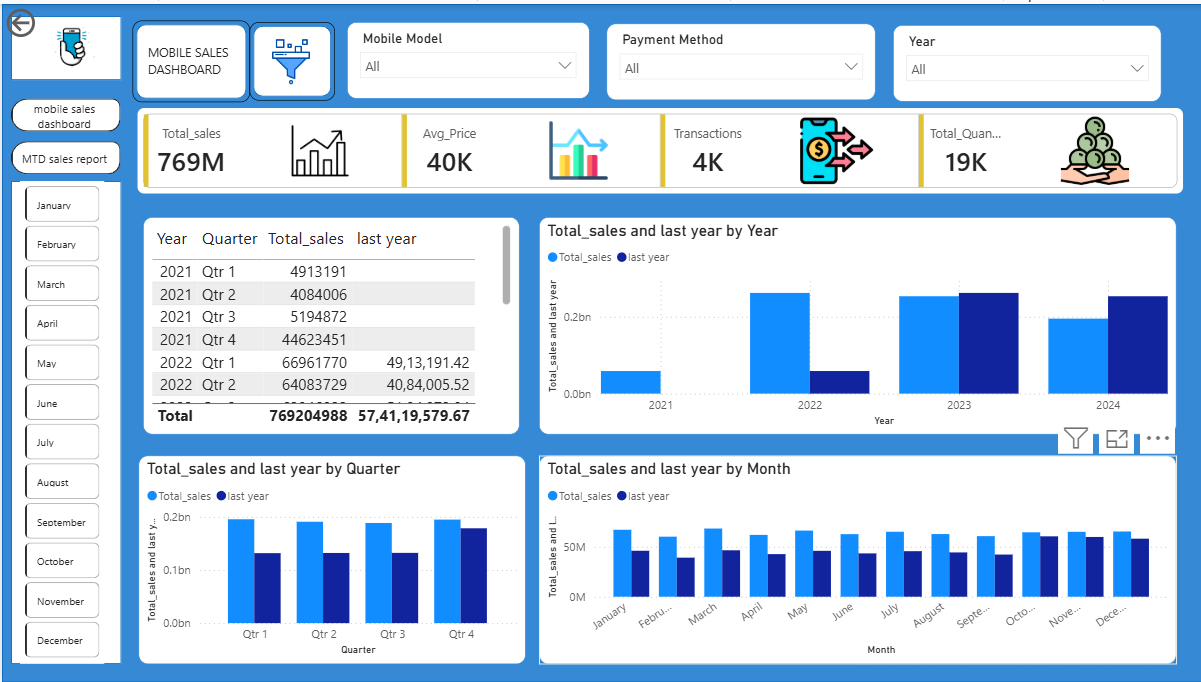

This screenshot's page, from the dashboard's own definition file:
{"tool":"powerbi","page":{"name":"Duplicate of mobile sales dashboard","canvas":[1280,720],"ordinal":1},"visuals":[{"type":"image","box":[9.5,0,108.2,77.9],"z":0},{"type":"image","box":[19.1,12.7,87.5,55.7],"z":1000},{"type":"shape","box":[0,0,1280.4,720.5],"z":2000},{"type":"shape","box":[9.4,13.2,117.2,68],"z":3000},{"type":"image","box":[22.3,19.1,103.4,55.7],"z":4000},{"type":"shape","box":[9.4,187.1,117.2,512.1],"z":6000},{"type":"cardVisual","fields":{"Data":["sales.Total_sales","sales.AVG_PRICE","sales.Transactions","sales.Total_Qunatity"]},"box":[138.4,105,1123,101.8],"z":7000},{"type":"slicer","fields":{"Values":["sales.Mobile Model"]},"box":[366.6,18.9,257,81.3],"z":8000},{"type":"slicer","fields":{"Values":["sales.Payment Method"]},"box":[640.6,20.8,285.4,81.3],"z":9000},{"type":"shape","box":[262.7,18.9,90.7,83.2],"z":10000},{"type":"shape","box":[138,17,124.7,86.9],"z":11000},{"type":"image","box":[275.9,35.9,62.4,49.1],"z":12000},{"type":"textbox","box":[149,36,99,49],"z":13000},{"type":"advancedSlicerVisual","fields":{"Values":["custom calendar.Date.Variation.Date Hierarchy.Month"]},"box":[19.1,187.7,89.1,512.2],"z":14000},{"type":"lineChart","fields":{"Y":["sales.MTD"],"Category":["custom calendar.Date.Variation.Date Hierarchy.Day"]},"box":[149.5,211.6,1095.9,488.3],"z":15000},{"type":"slicer","fields":{"Values":["custom calendar.Date.Variation.Date Hierarchy.Year"]},"box":[944.8,22.3,284.7,81.1],"z":16000},{"type":"pageNavigator","box":[9.5,100.2,116.1,81.1],"z":16001}]}

Visuals, with their boxes on the page's 1280x720 design canvas (x1, y1, x2, y2). These are canvas units, not pixel positions in the 1201x682 screenshot, which may show the page scaled, cropped or inside an application window:
image: box=[10, 0, 118, 78]
image: box=[19, 13, 107, 68]
shape: box=[0, 0, 1280, 720]
shape: box=[9, 13, 127, 81]
image: box=[22, 19, 126, 75]
shape: box=[9, 187, 127, 699]
cardVisual - sales.Total_sales x sales.AVG_PRICE: box=[138, 105, 1261, 207]
slicer - sales.Mobile Model: box=[367, 19, 624, 100]
slicer - sales.Payment Method: box=[641, 21, 926, 102]
shape: box=[263, 19, 353, 102]
shape: box=[138, 17, 263, 104]
image: box=[276, 36, 338, 85]
textbox: box=[149, 36, 248, 85]
advancedSlicerVisual - custom calendar.Date.Variation.Date Hierarchy.Month: box=[19, 188, 108, 700]
lineChart - sales.MTD x custom calendar.Date.Variation.Date Hierarchy.Day: box=[150, 212, 1245, 700]
slicer - custom calendar.Date.Variation.Date Hierarchy.Year: box=[945, 22, 1230, 103]
pageNavigator: box=[10, 100, 126, 181]
